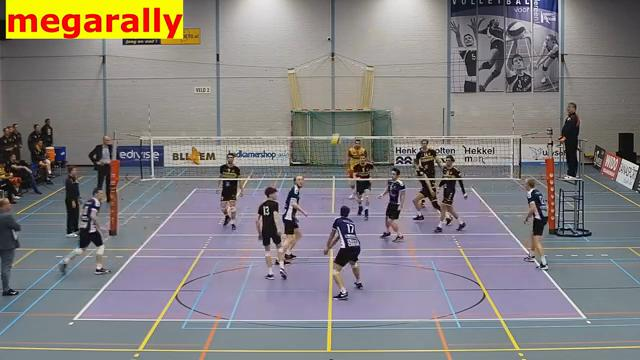ricezione: (319, 204, 367, 305)
